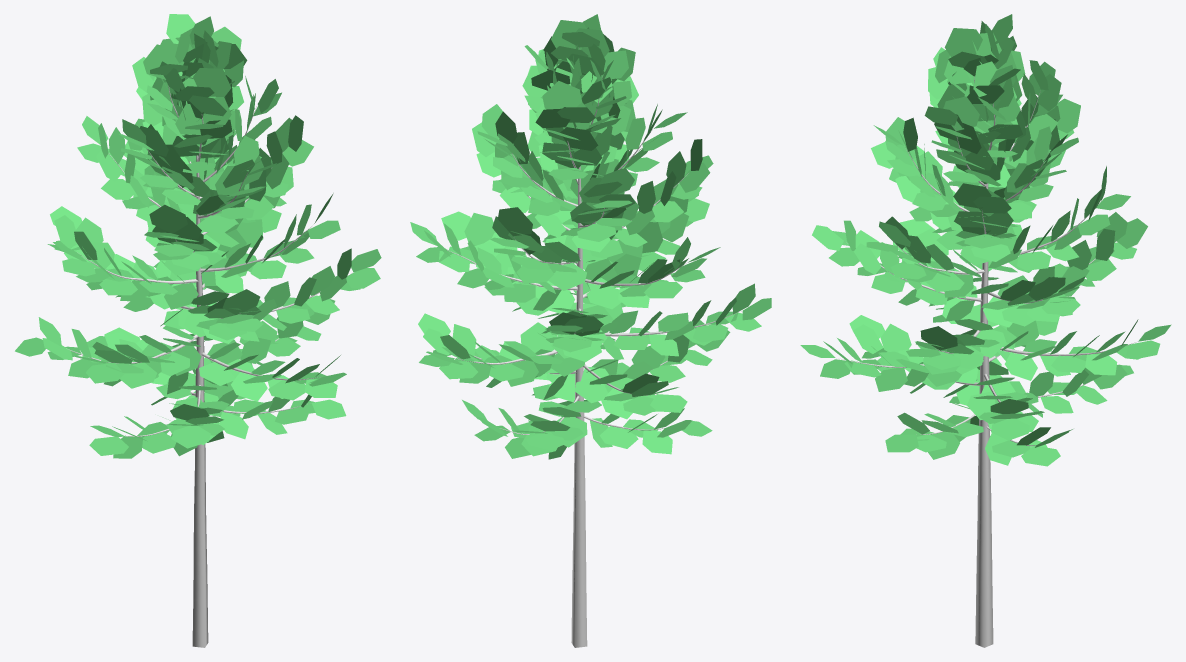
The model's file is Qauking_Aspen_1.glb.
3 views of the same model, side by side, from view 1: azimuth 30°, elevation 25°; view 2: azimuth 150°, elevation 25°; view 3: azimuth 270°, elevation 25° (orthographic).
Visible parts, largest first — view 1: leaves, tree; view 2: leaves, tree; view 3: leaves, tree.
Boxes of the visible parts, box(x1,y1,x2,y2) form: leaves: box(15, 14, 381, 458); tree: box(66, 85, 351, 647); leaves: box(410, 14, 771, 459); tree: box(447, 47, 741, 647); leaves: box(800, 14, 1171, 466); tree: box(838, 76, 1137, 647).
Size of the model in its own units: 9.57 by 18.06 by 9.77.
